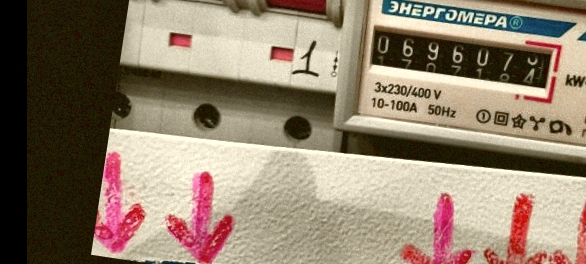0: (474, 43, 492, 67), (375, 32, 392, 54)
4: (522, 64, 538, 86)
6: (400, 34, 417, 57), (449, 42, 466, 64)
7: (499, 49, 517, 72)
9: (425, 38, 441, 61)
screen: (355, 12, 568, 101)
